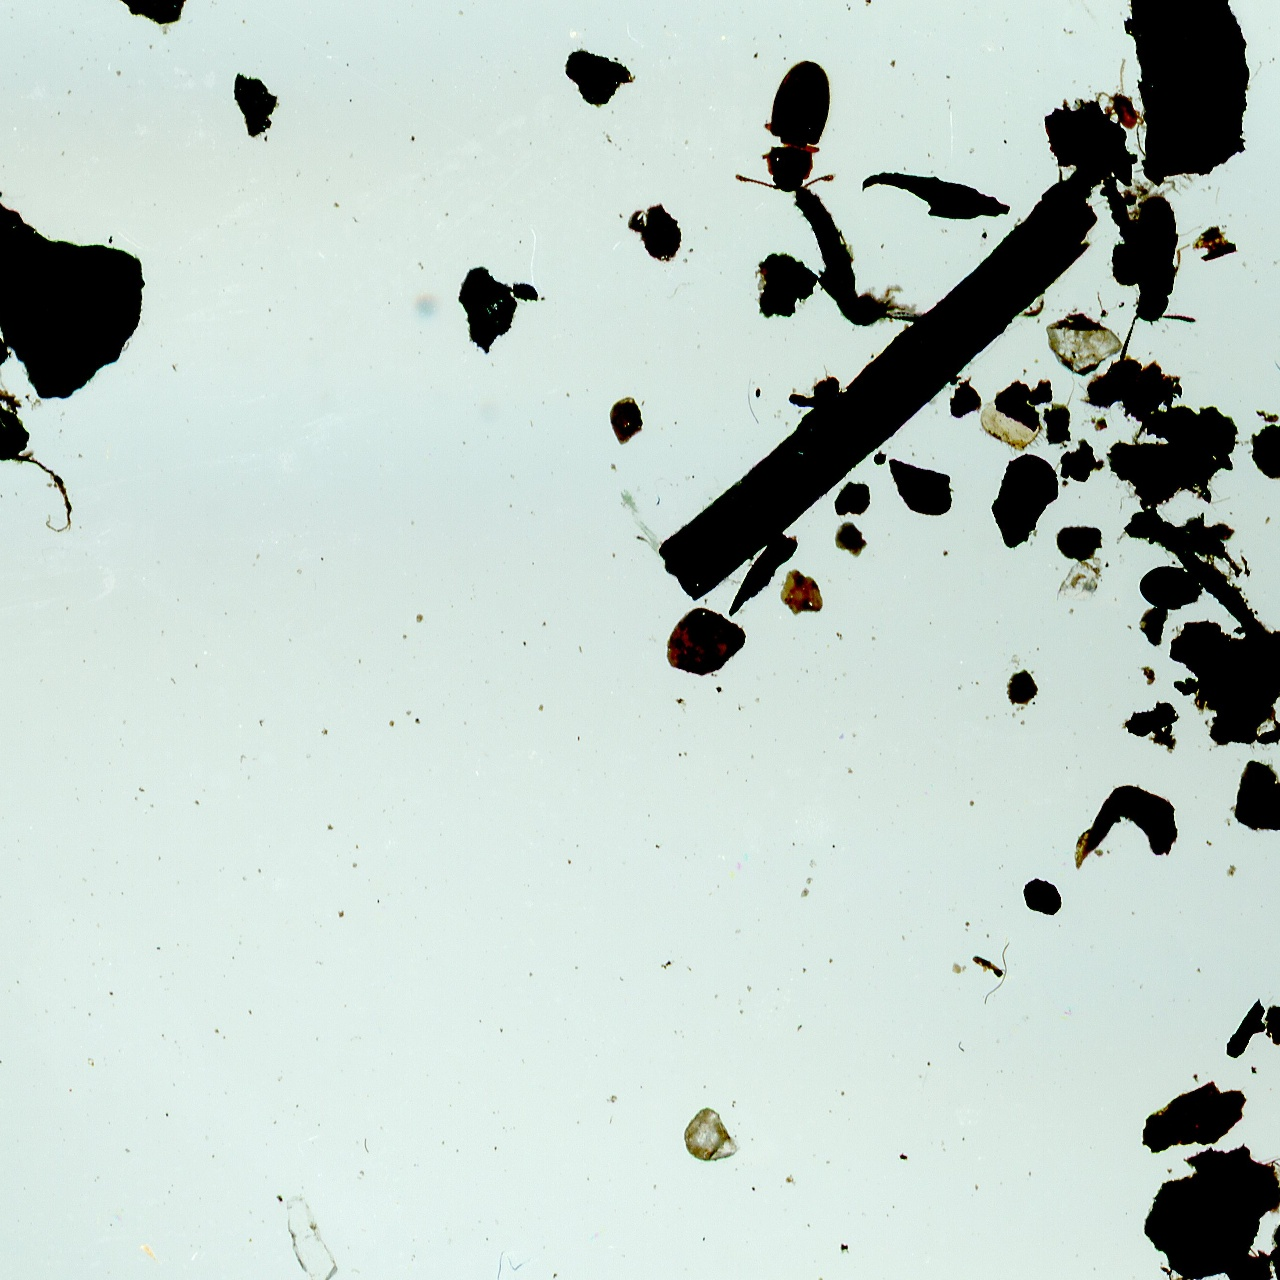arthropod: (763, 164, 917, 350), (732, 56, 838, 199), (1117, 190, 1199, 368), (1093, 56, 1147, 132), (1265, 770, 1280, 930)
